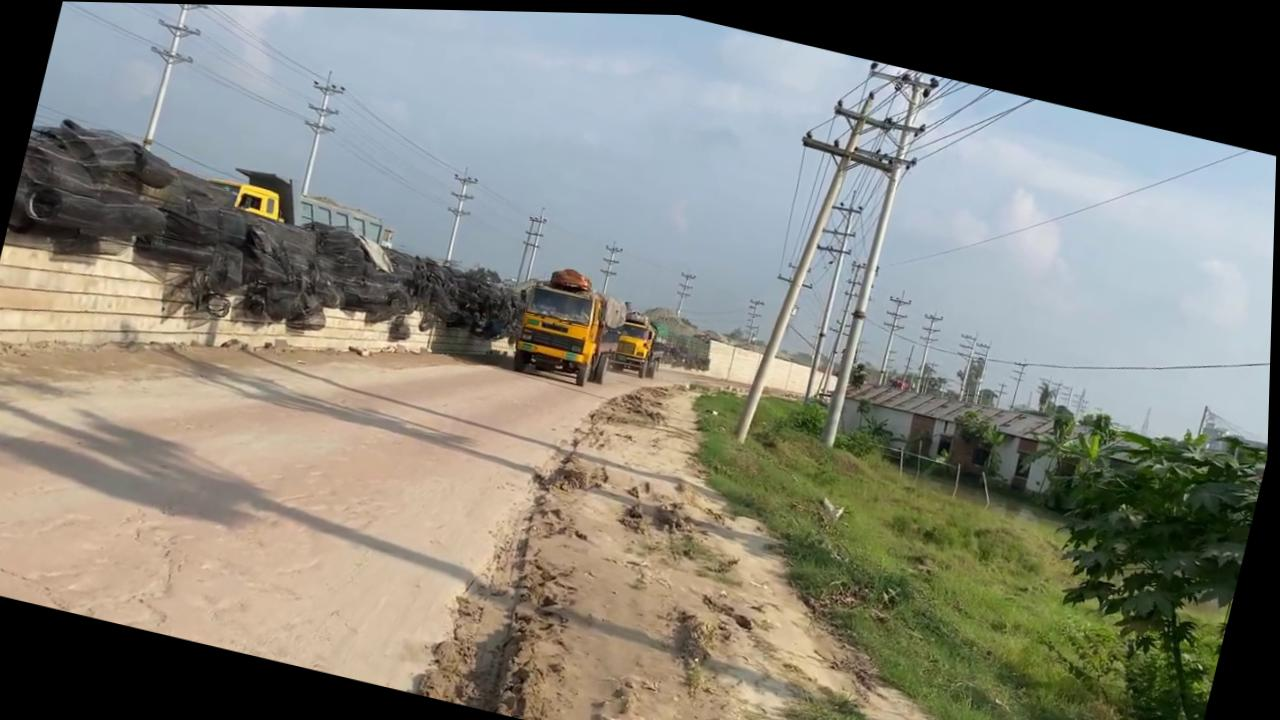Garbage: (0, 108, 546, 392)
Pole: (734, 73, 876, 452), (816, 66, 936, 448)
Traffic-sign: (959, 380, 1272, 720)
Tree: (495, 253, 636, 390), (200, 157, 405, 249), (608, 305, 674, 378), (200, 173, 293, 222)
Upstairs: (0, 197, 518, 454)
